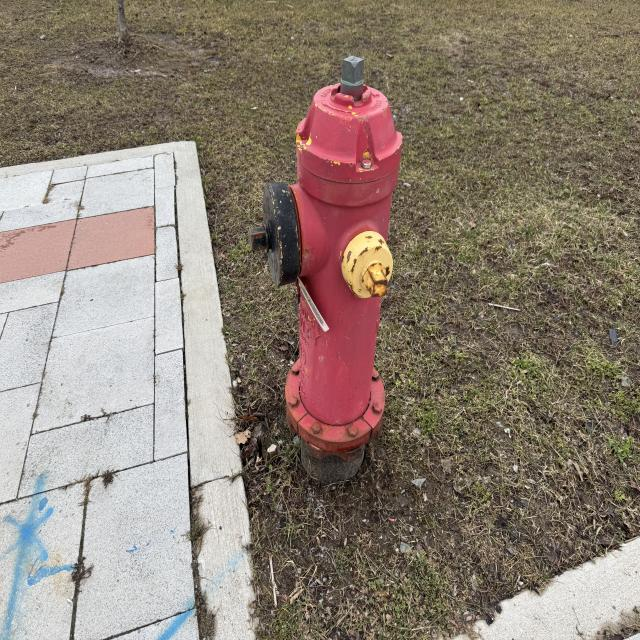Fire hydrant: (248, 56, 404, 463)
